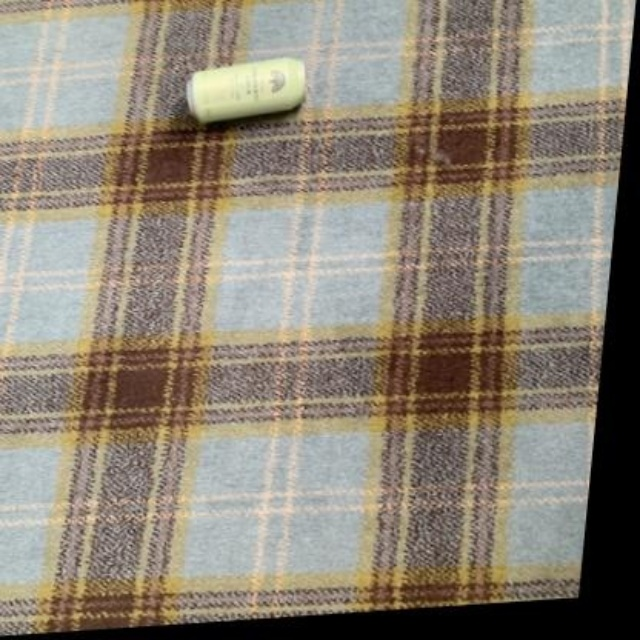trash: (186, 57, 305, 122)
